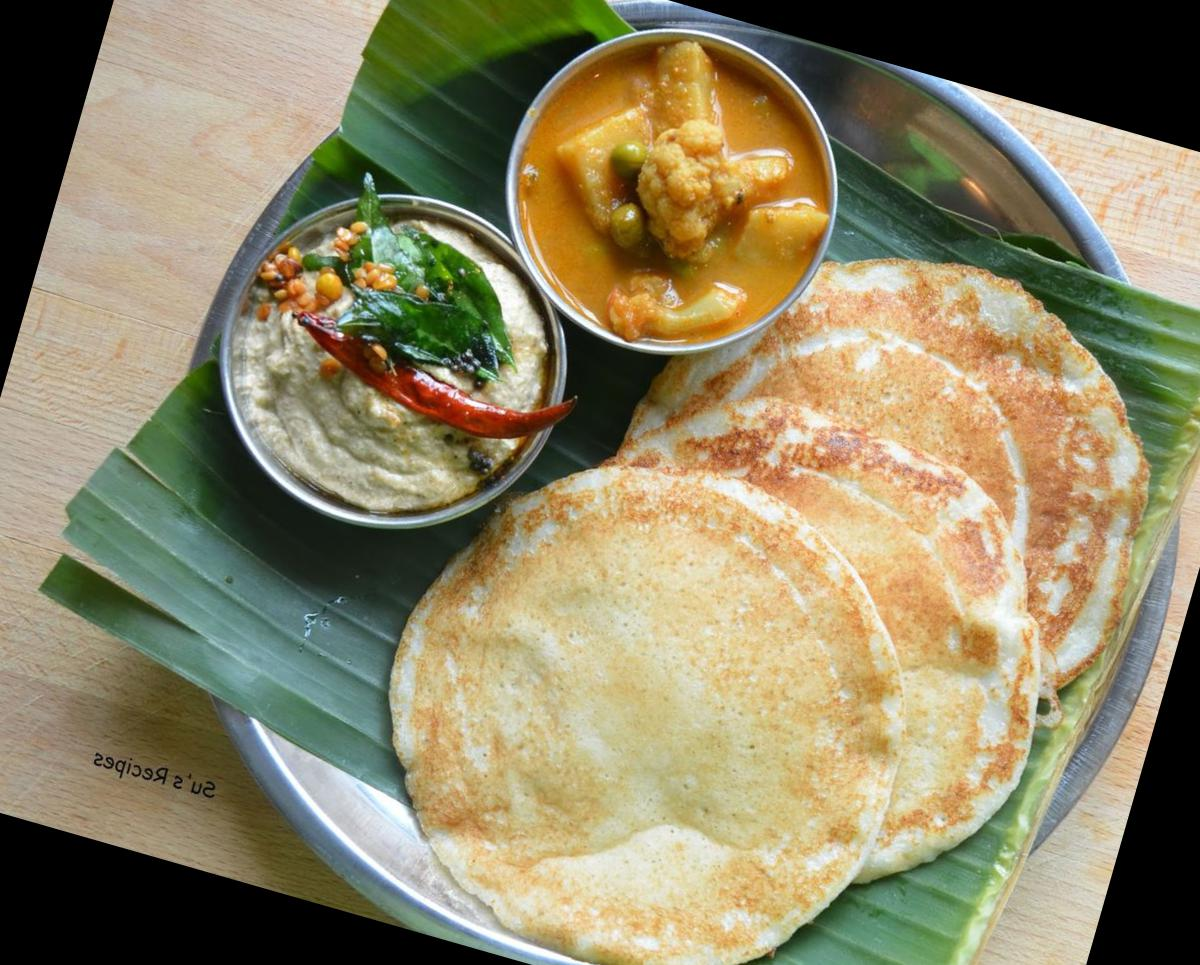dosa: (380, 469, 898, 953), (617, 257, 1152, 697)
